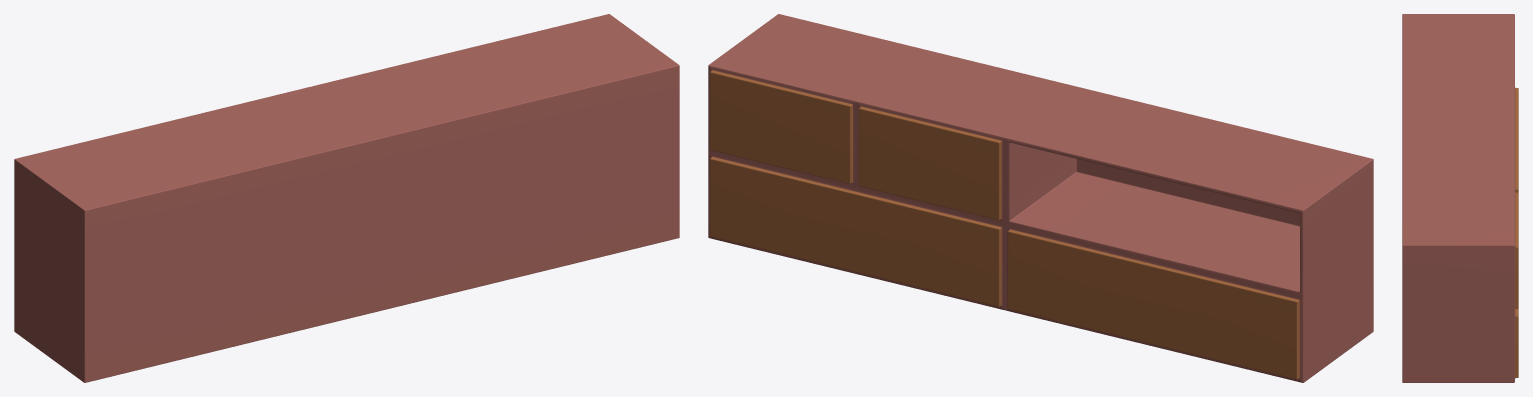
File: Console.fbx
The picture shows the model from 3 angles, left to right: view 1: azimuth 30°, elevation 25°; view 2: azimuth 150°, elevation 25°; view 3: azimuth 270°, elevation 25°; orthographic projection. The views are drawn at different scales.
Parts seen in each view (by area): view 1: Console; view 2: Console; view 3: Console.
Boxes of the visible parts, x1,y1,x2,y2 form: Console: (14,14,679,382); Console: (708,14,1373,382); Console: (1402,14,1518,382).
Bounding box in the file's own units: 9 × 2.5 × 1.91.
